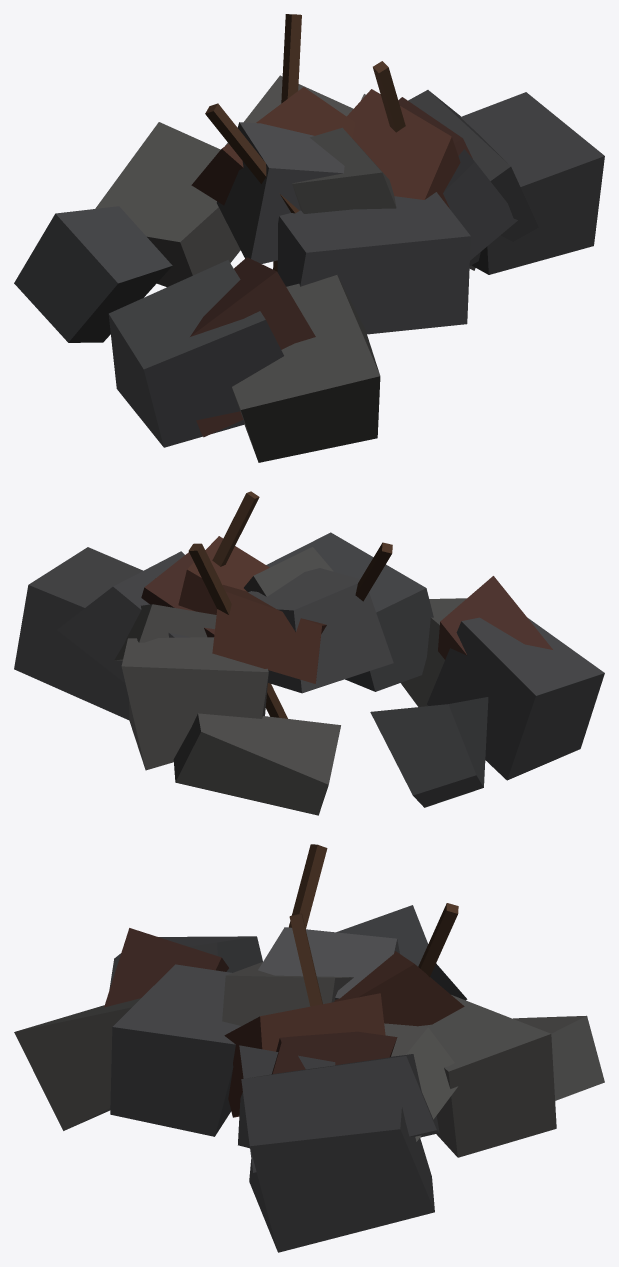
The model's file is rubble_pile.glb.
The picture shows the model from 3 angles, top to bottom: view 1: azimuth 30°, elevation 25°; view 2: azimuth 150°, elevation 25°; view 3: azimuth 270°, elevation 25°; orthographic projection. The views are drawn at different scales.
Visible parts, largest first — view 1: rubble_pile; view 2: rubble_pile; view 3: rubble_pile.
Part boxes in pixels (box(x1,y1,x2,y2)): rubble_pile: box(14, 14, 604, 462); rubble_pile: box(14, 491, 604, 815); rubble_pile: box(14, 844, 604, 1252).
Size of the model in its own units: 2.01 by 1.07 by 1.91.
